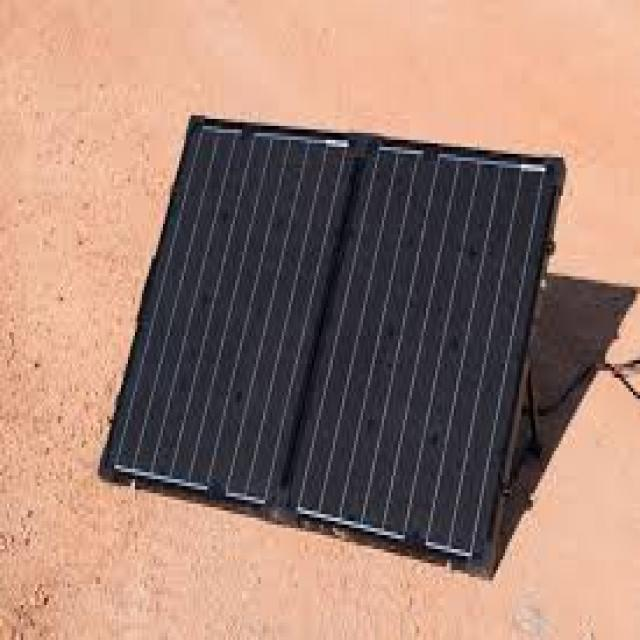faulty: (99, 114, 560, 560)
